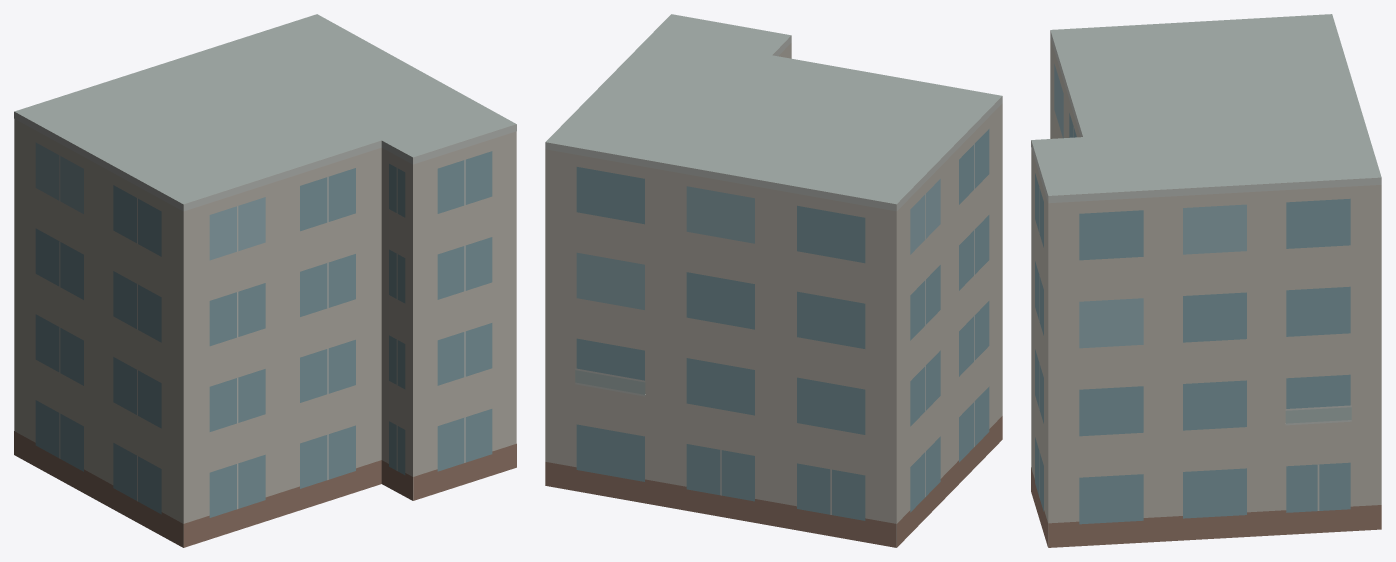
The model's file is survey-upis-32530781.glb.
3 renders of one model, left to right at view 1: azimuth 30°, elevation 25°; view 2: azimuth 150°, elevation 25°; view 3: azimuth 270°, elevation 25°, orthographic. The views are drawn at different scales.
Visible parts, largest first — view 1: survey-upis-32530781.tmp; view 2: survey-upis-32530781.tmp; view 3: survey-upis-32530781.tmp.
Boxes of the visible parts, x1,y1,x2,y2 form: survey-upis-32530781.tmp: [14, 14, 516, 547]; survey-upis-32530781.tmp: [545, 14, 1002, 547]; survey-upis-32530781.tmp: [1031, 14, 1381, 547].
Size of the model in its own units: 13.1 by 11.8 by 10.66.
